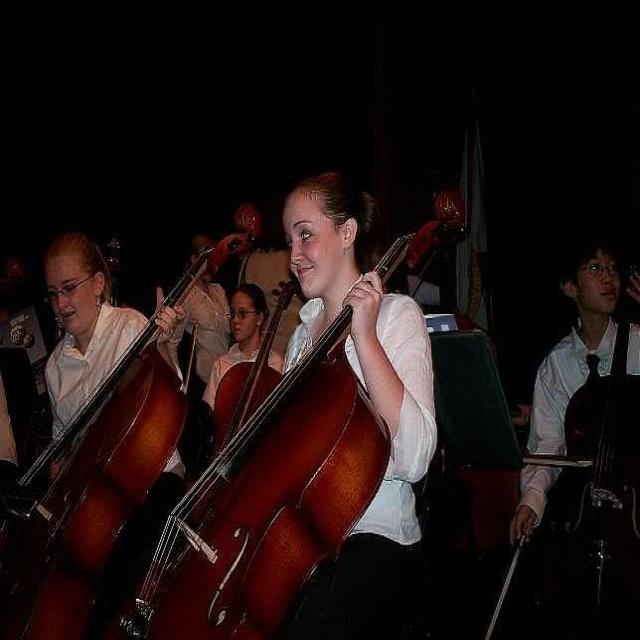cello: (88, 180, 476, 640), (2, 197, 262, 640), (536, 245, 640, 640), (213, 268, 306, 444)
